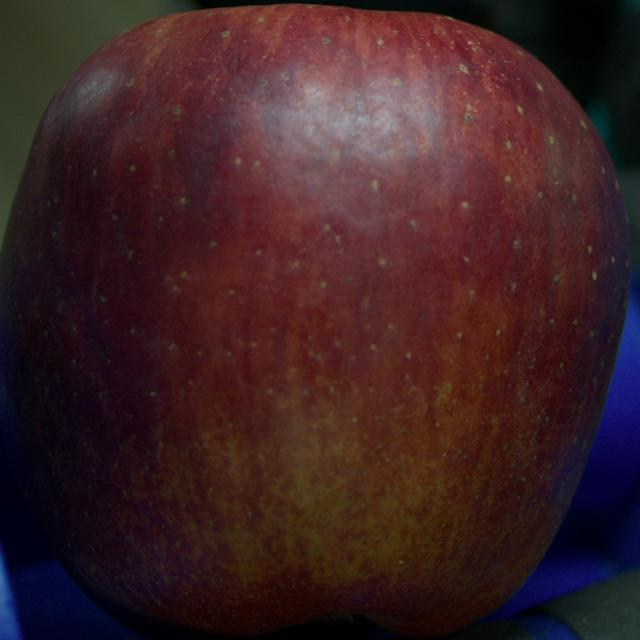apple: (0, 6, 630, 637)
